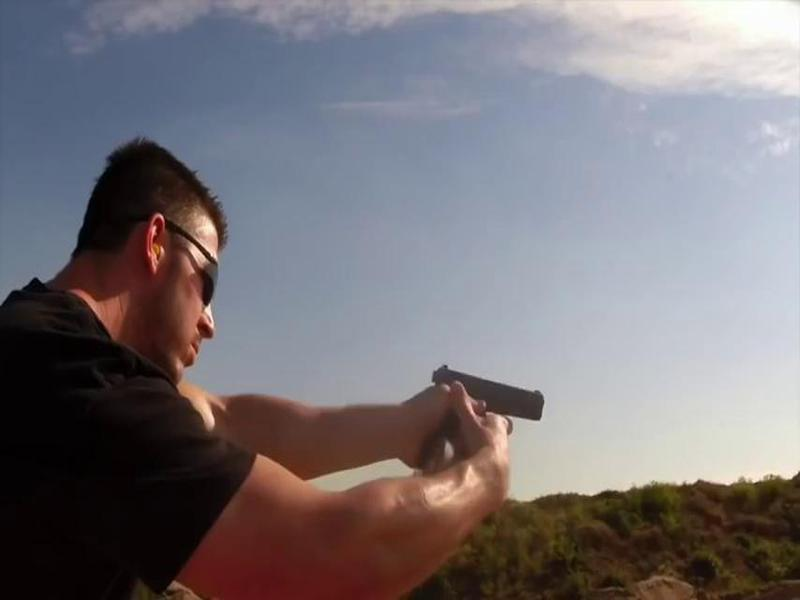Pistola: (394, 353, 556, 477)
